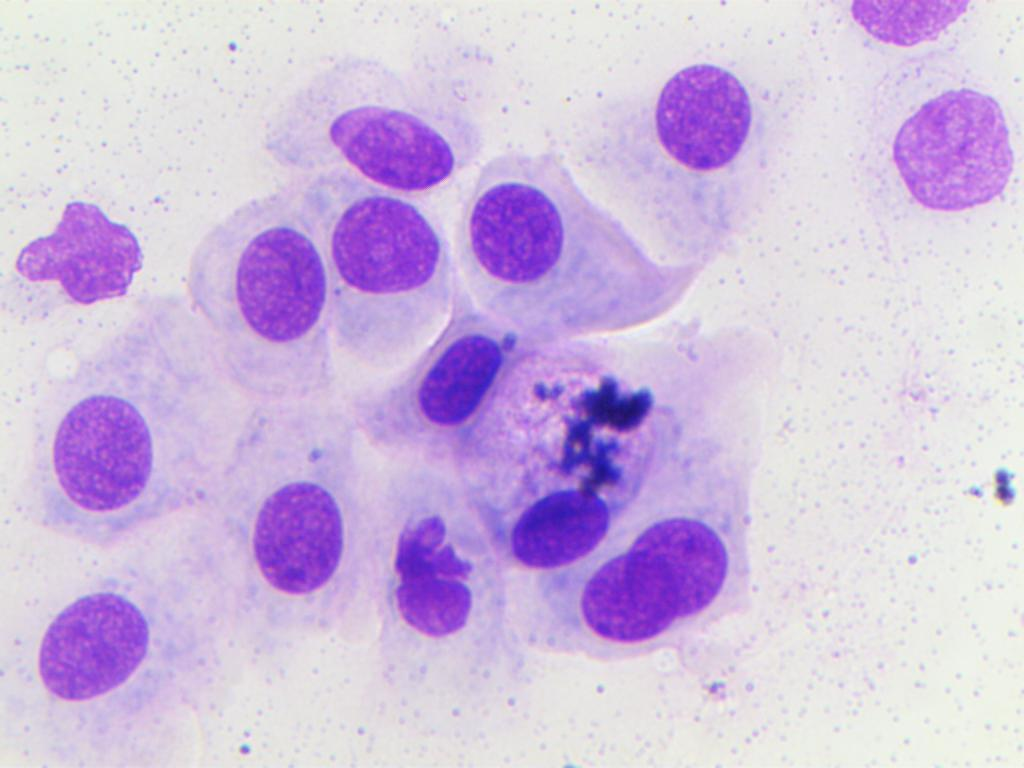artifact: (533, 359, 681, 476)
epithelial: (870, 79, 1023, 231), (37, 375, 169, 544), (19, 586, 178, 718), (8, 178, 155, 315), (226, 472, 367, 612), (372, 487, 489, 647), (637, 51, 779, 181), (457, 156, 585, 293), (196, 219, 335, 345), (311, 93, 483, 191), (329, 191, 450, 296), (626, 518, 729, 622), (408, 331, 510, 430), (583, 547, 677, 654), (509, 482, 611, 571), (826, 0, 983, 47)
